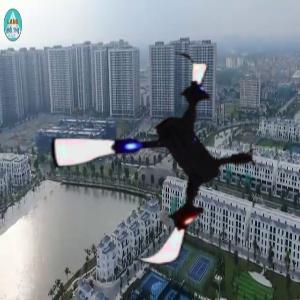drone: (46, 49, 269, 272)
